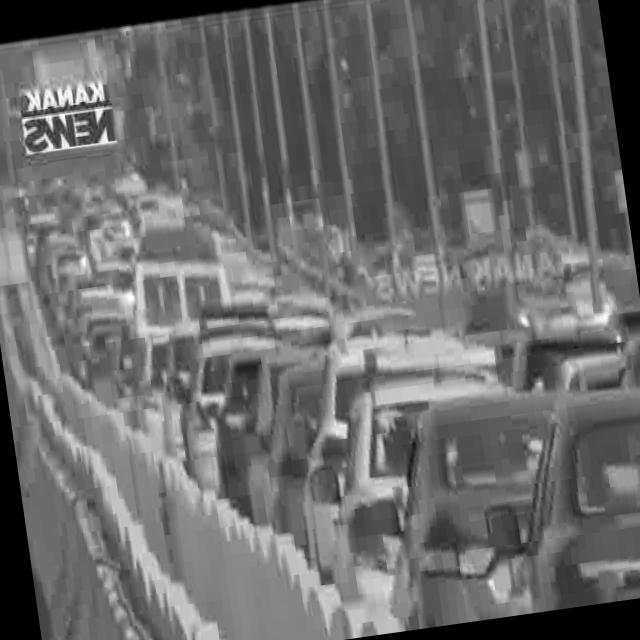ambulance: (122, 223, 244, 318)
